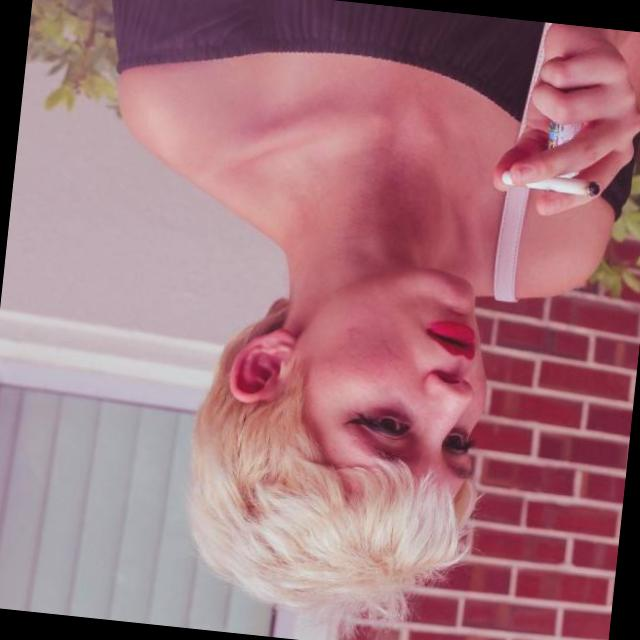smoke: (528, 170, 602, 200)
